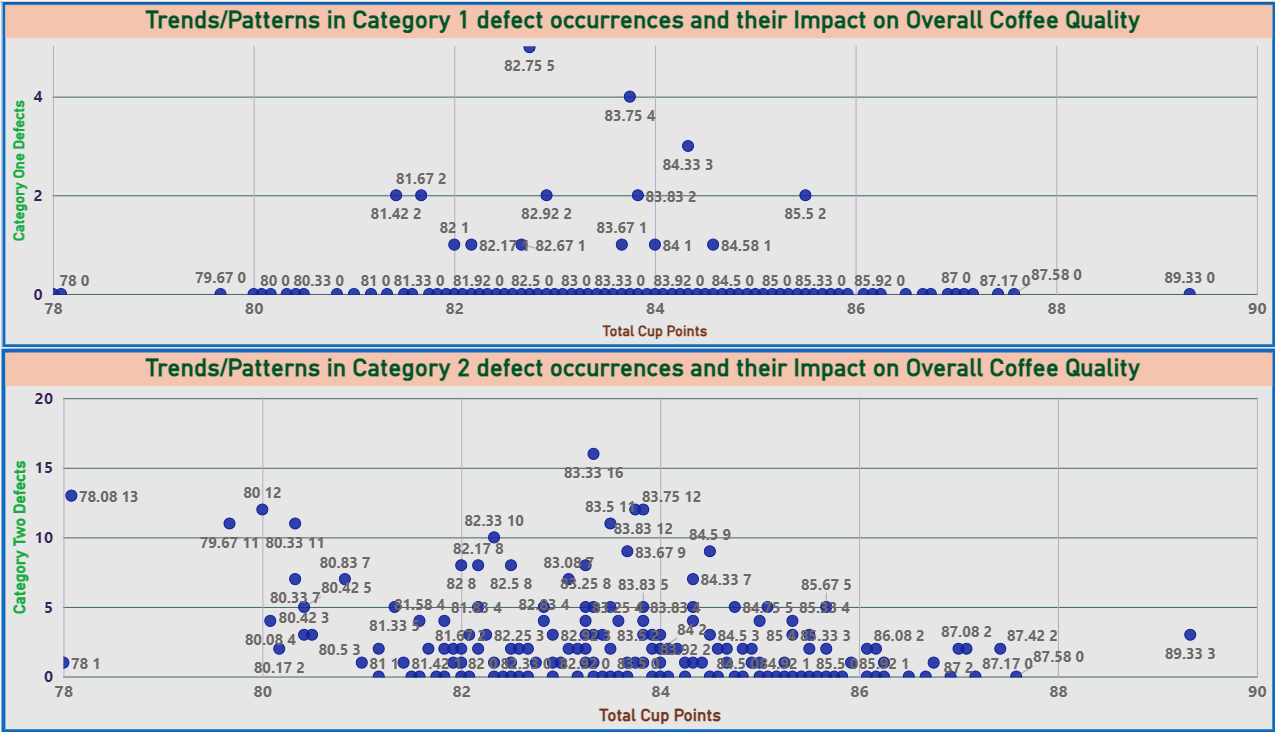

Layout of this report page (visuals, bound fields, positions):
{"tool":"powerbi","page":{"name":"Cat 1&2 defects ","canvas":[1280,720],"ordinal":4},"visuals":[{"type":"scatterChart","title":"Trends/Patterns in Category 1 defect occurrences and their Impact on Overall Coffee Quality","fields":{"X":["df_arabica_clean.Total Cup Points"],"Y":["df_arabica_clean.Category One Defects"]},"box":[25.8,0,1254.5,342],"z":0},{"type":"scatterChart","title":"Trends/Patterns in Category 2 defect occurrences and their Impact on Overall Coffee Quality","fields":{"X":["df_arabica_clean.Total Cup Points"],"Y":["df_arabica_clean.Category Two Defects"]},"box":[25.8,342,1254.5,378.1],"z":1000}]}

Visuals, with their boxes in screenshot pixels (x1, y1, x2, y2), scaled from the page's 1280x720 canvas onto the 1275x732 screenshot:
"Trends/Patterns in Category 1 defect occurrences and their Impact on Overall Coffee Quality" scatterChart: 26,0,1274,348
"Trends/Patterns in Category 2 defect occurrences and their Impact on Overall Coffee Quality" scatterChart: 26,348,1274,731
